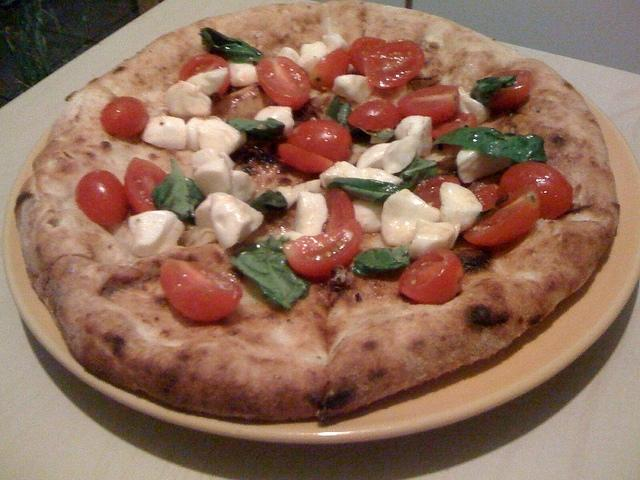tomato: (284, 190, 362, 283), (160, 258, 242, 322), (461, 187, 541, 248), (499, 161, 574, 219), (399, 250, 464, 305), (363, 39, 424, 89), (256, 56, 311, 110), (76, 170, 129, 225), (287, 119, 353, 163), (397, 84, 459, 123), (124, 158, 167, 214), (180, 54, 230, 102), (488, 70, 534, 114), (102, 97, 150, 137), (309, 46, 350, 92), (348, 99, 404, 132), (278, 143, 335, 173), (414, 175, 462, 210), (462, 172, 503, 211), (348, 36, 386, 76), (432, 112, 478, 140)
